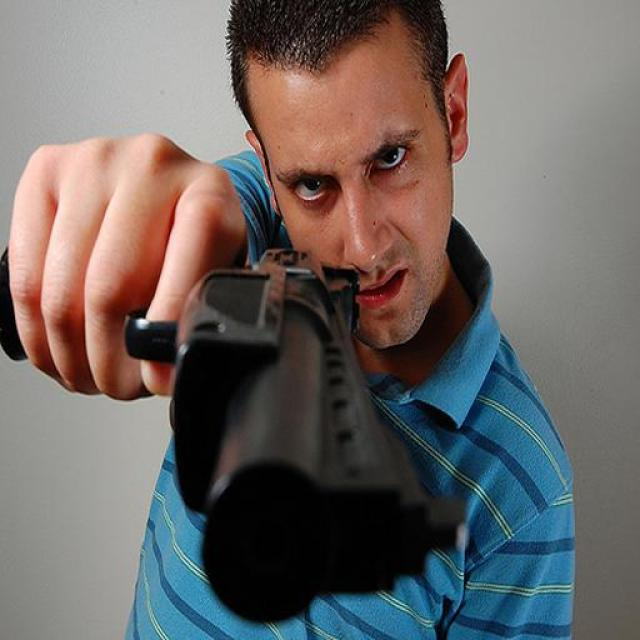pistol: (1, 232, 455, 620)
